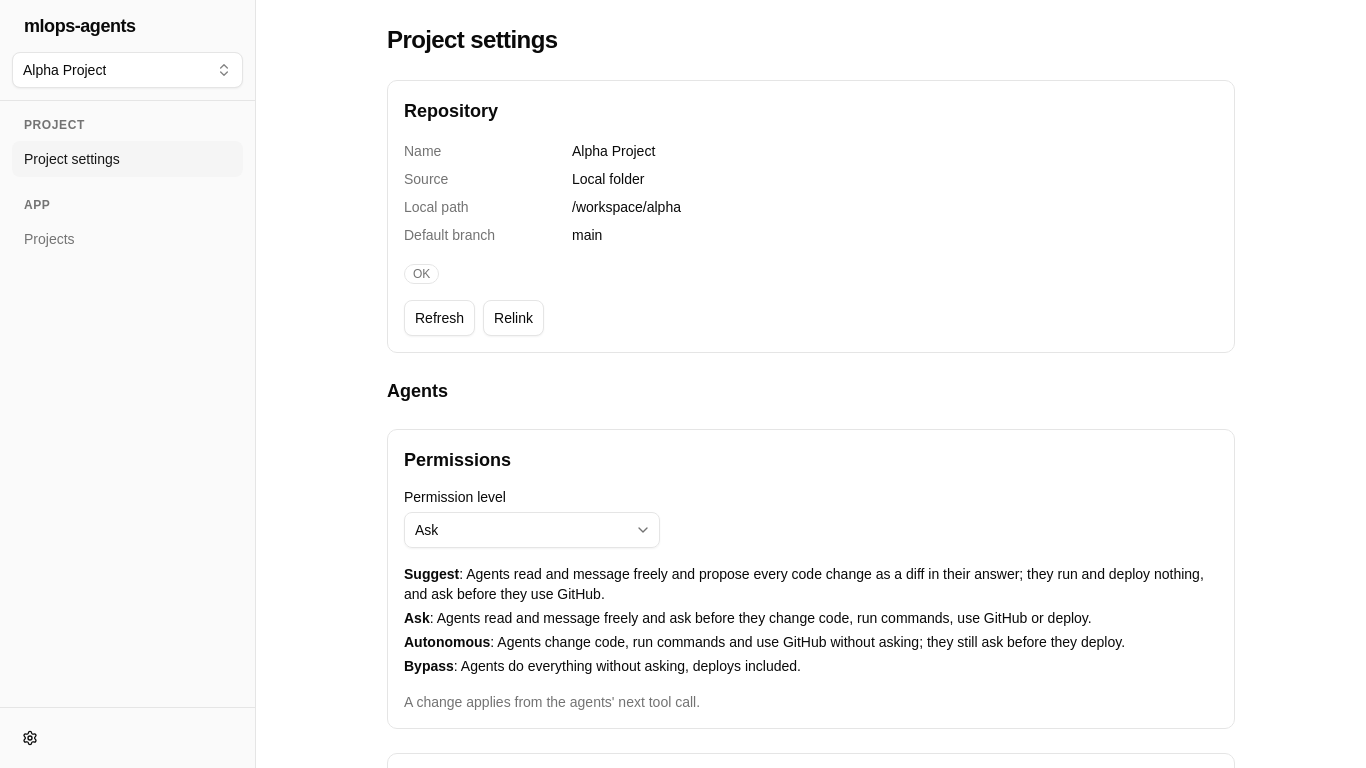
Test: ProjectSwitcher › selecting another project opens it via POST /open and navigates to the project
Click the button "Alpha Project" at {"x": 128, "y": 70}, box [12, 52, 243, 88]
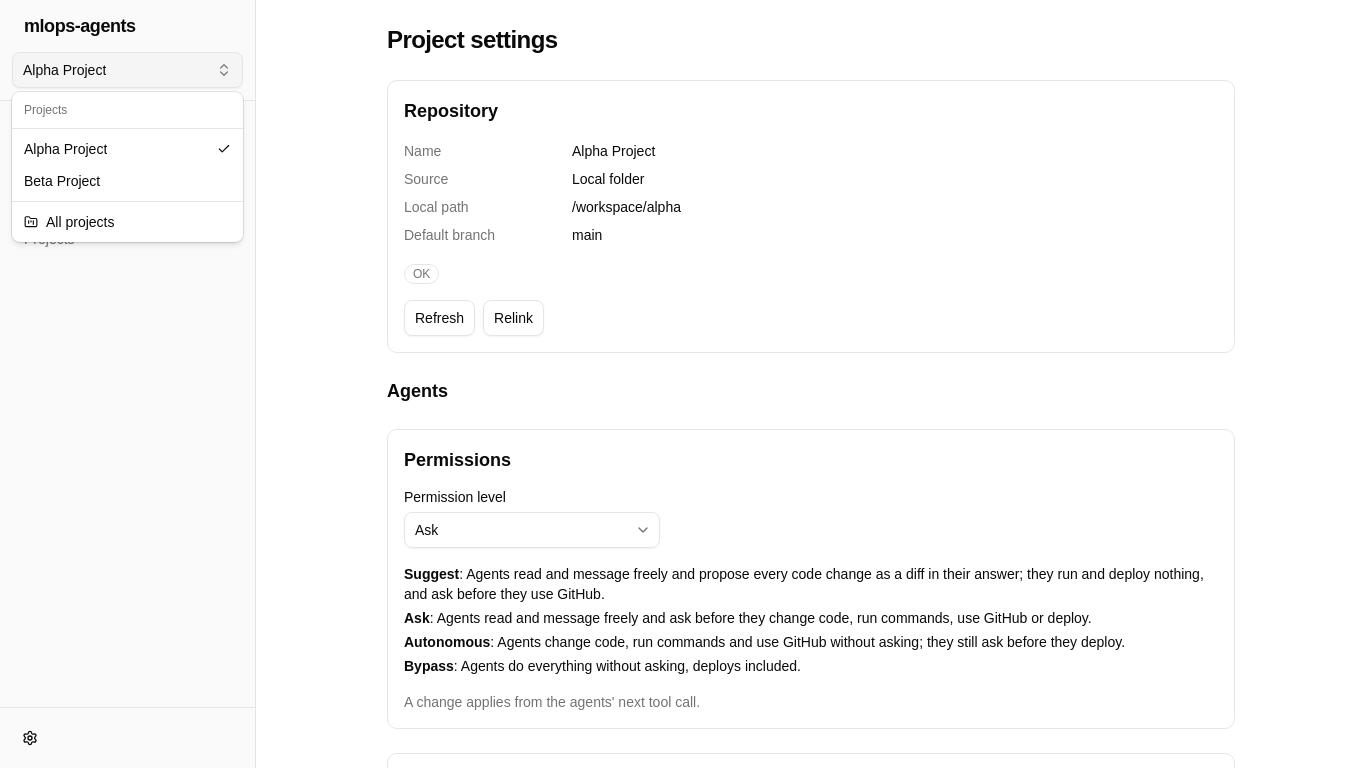
Click the menu item "Beta Project" at {"x": 62, "y": 181}, box [24, 173, 100, 189]
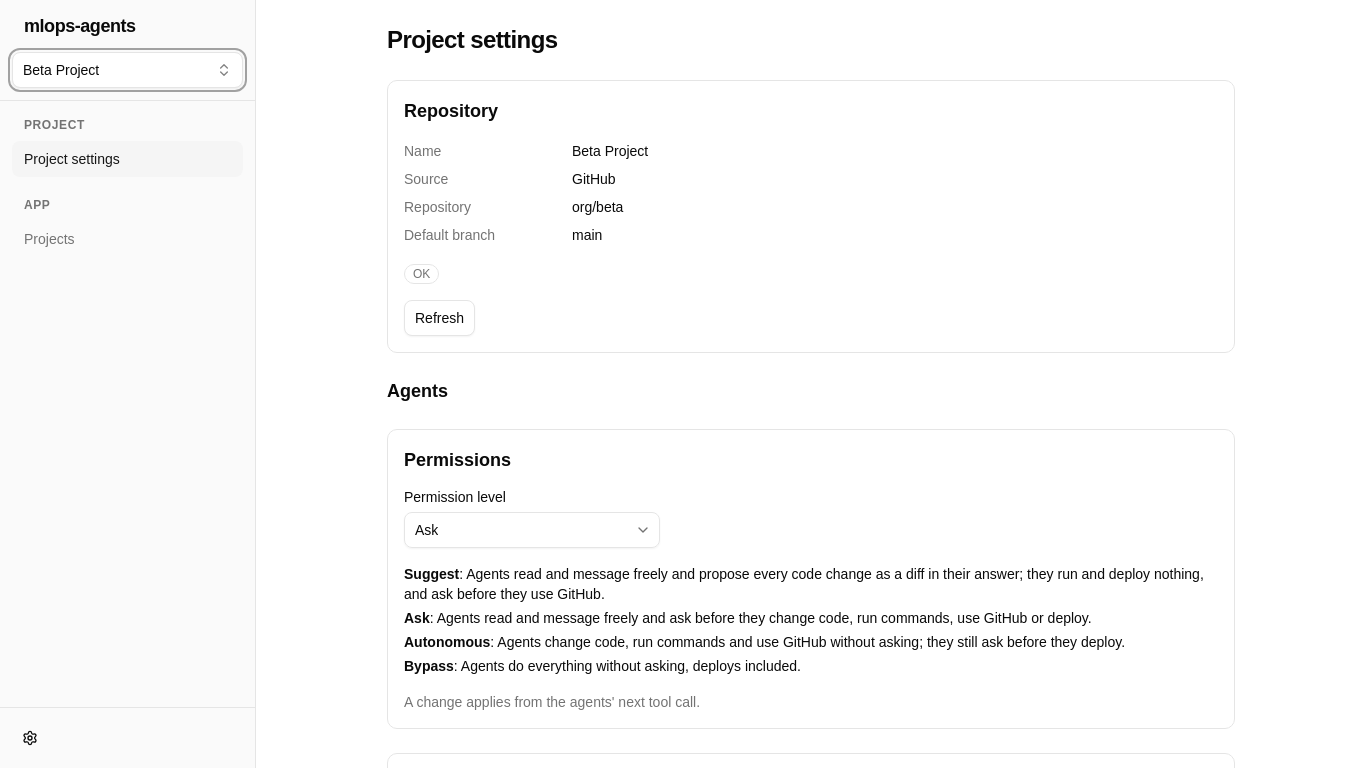
Expected: the heading "Project settings" is shown, [387, 26, 558, 53]
Result: the button "Beta Project" is shown at [12, 52, 243, 88]
Result: the text "org/beta" is shown at [572, 199, 623, 215]
